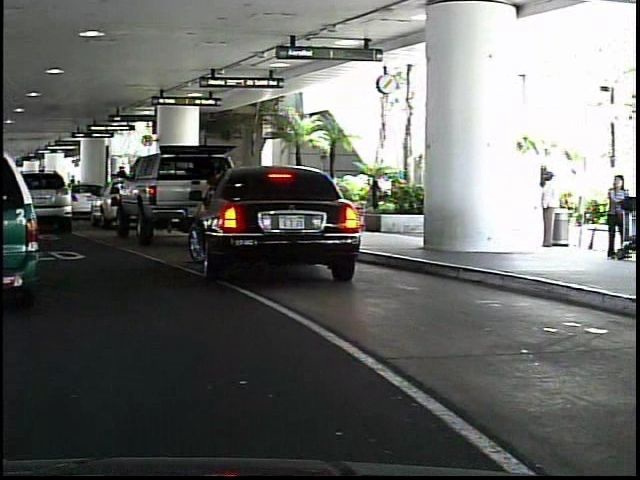person: (599, 170, 629, 265)
